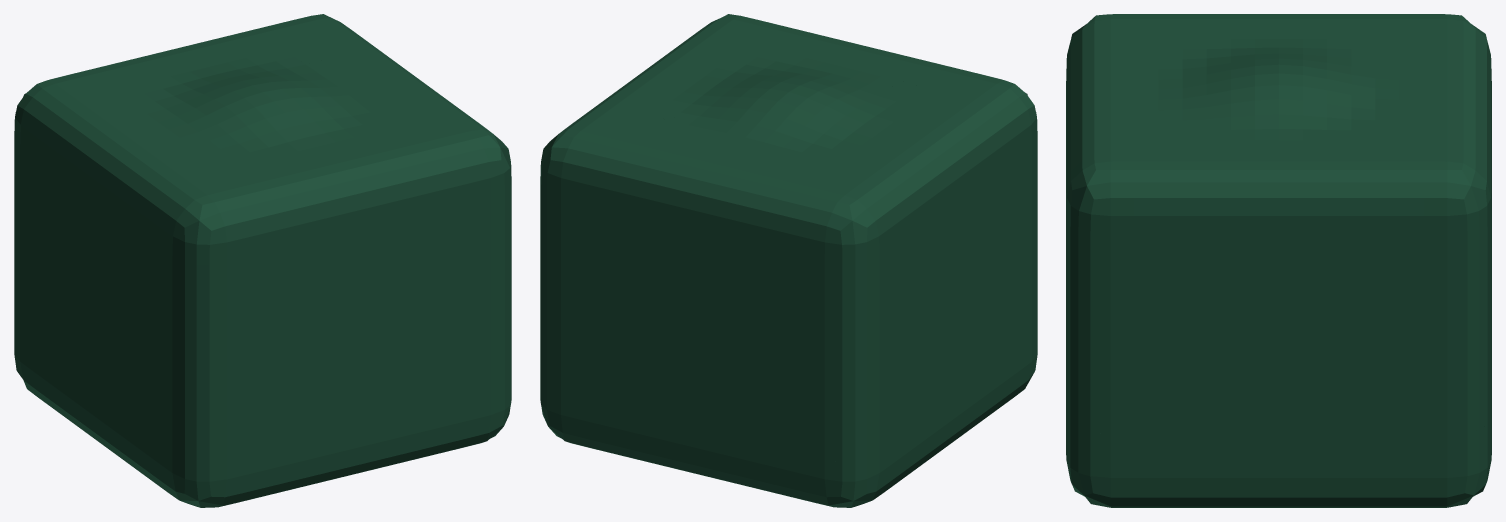
File: FET-POF-std.glb
The picture shows the model from 3 angles, left to right: view 1: azimuth 30°, elevation 25°; view 2: azimuth 150°, elevation 25°; view 3: azimuth 270°, elevation 25°; orthographic projection. The views are drawn at different scales.
Visible parts, largest first — view 1: pillow-pouf:pbr; view 2: pillow-pouf:pbr; view 3: pillow-pouf:pbr.
Part boxes in pixels (x1,y1,x2,y2): pillow-pouf:pbr: (14,14,511,507); pillow-pouf:pbr: (540,14,1037,507); pillow-pouf:pbr: (1066,14,1491,507).
Size of the model in its own units: 0.45 by 0.4385 by 0.45.
